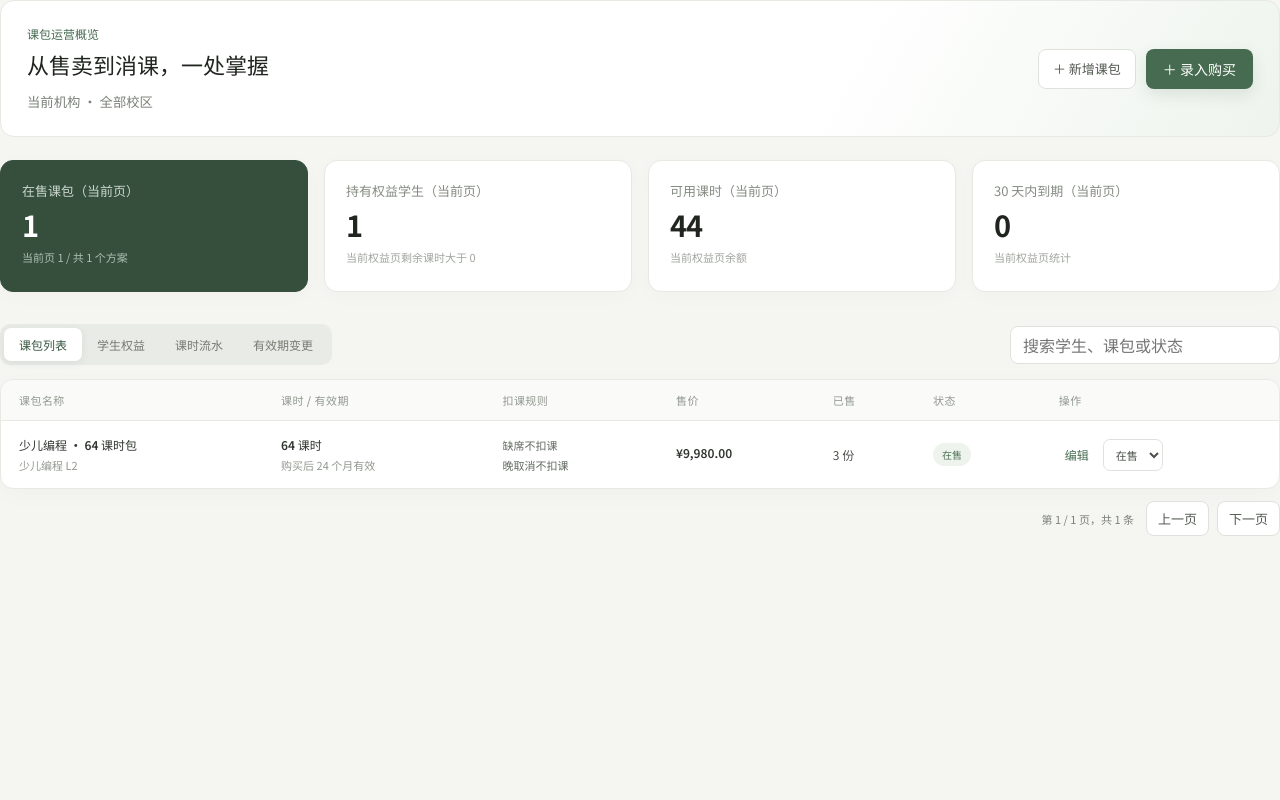
Test: 课包管理真实 API 页面 › 录入购买使用幂等键且提交期间阻止重复请求
This screenshot has width=1280, height=800.
Expected: the text "少儿编程 · 64 课时包" is shown, x1=19 y1=436 x2=137 y2=453
Click the button "＋ 录入购买". click: (1199, 68)
box: x1=1146 y1=48 x2=1253 y2=88
(page scrolled)
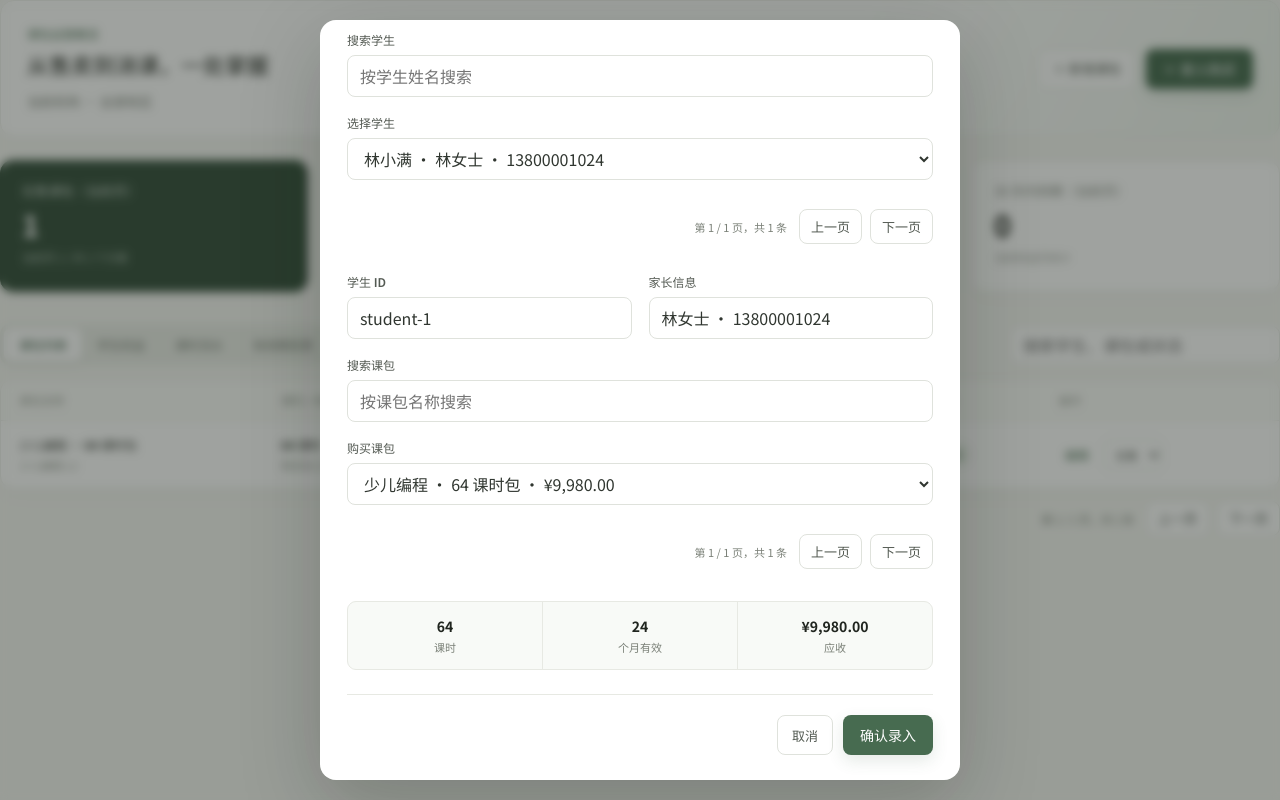
Expected: the button "确认录入" is enabled
Click the button "确认录入". click: (888, 735)
box: x1=843 y1=715 x2=933 y2=755
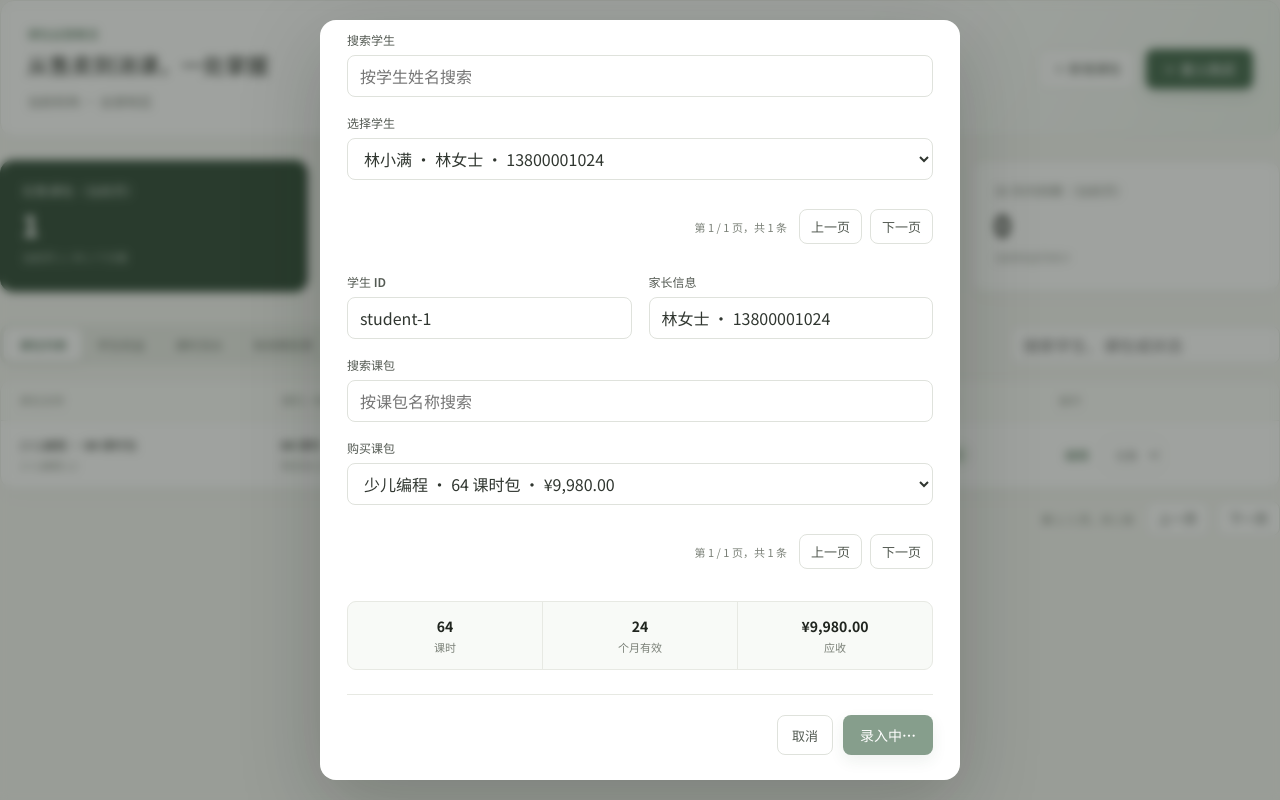
Click the button named "确认录入". click: (888, 735)
box: x1=843 y1=715 x2=933 y2=755
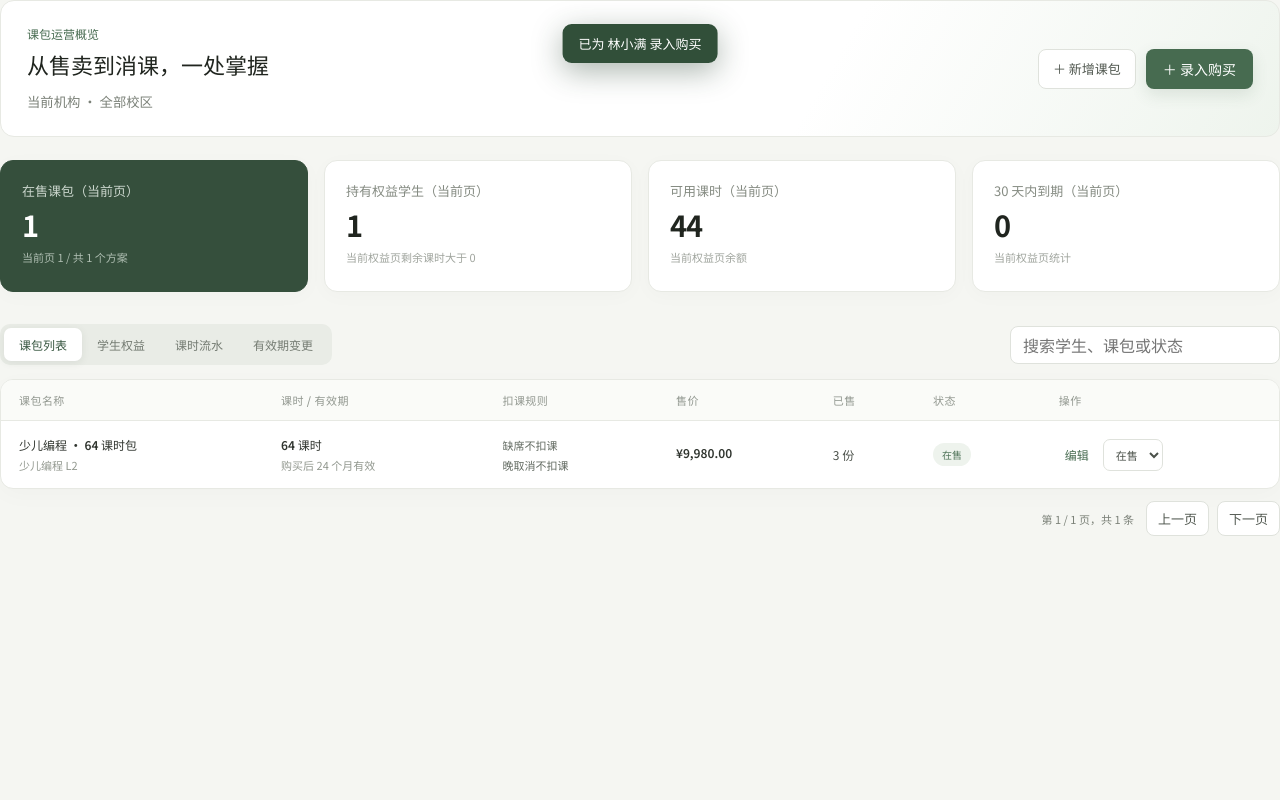
Expected: the message reads "已为 林小满 录入购买", x1=579 y1=34 x2=701 y2=53
